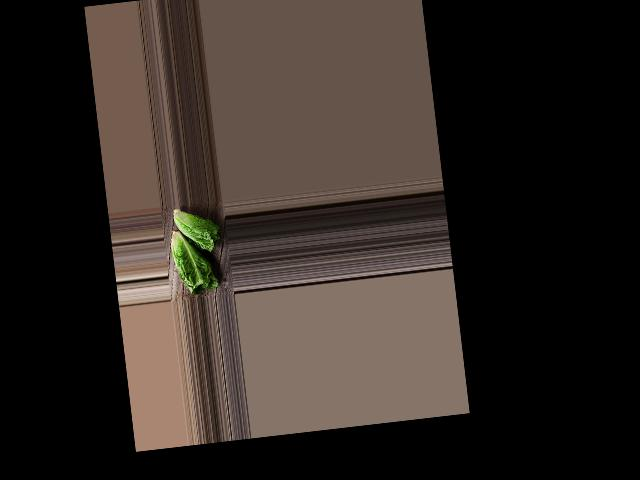lettuce: (170, 200, 226, 256)
